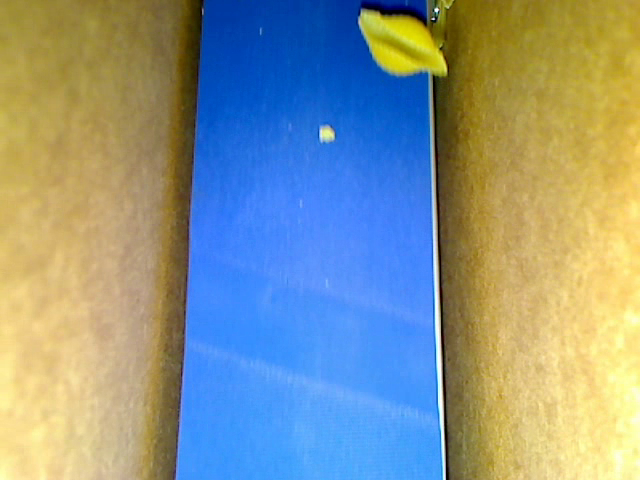penne: (431, 1, 447, 50), (442, 1, 455, 14)
shell: (356, 12, 449, 75)
